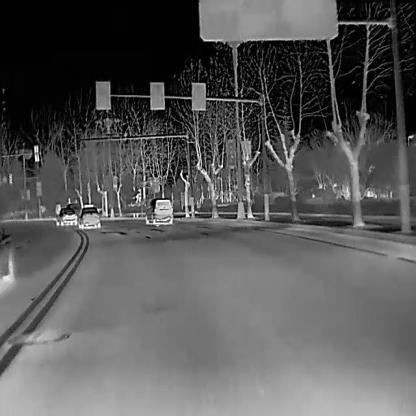car: (144, 197, 173, 224), (77, 204, 100, 227), (55, 206, 77, 225)
